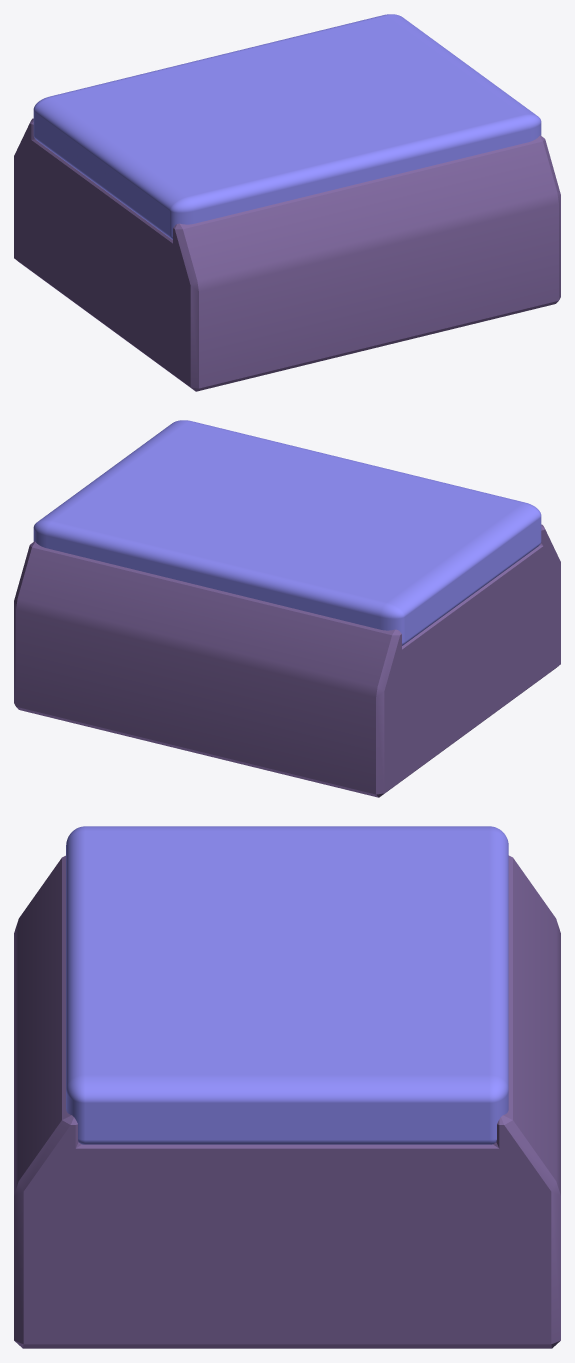
The picture shows the model from 3 angles, top to bottom: view 1: azimuth 30°, elevation 25°; view 2: azimuth 150°, elevation 25°; view 3: azimuth 270°, elevation 25°; orthographic projection. The views are drawn at different scales.
Visible parts, largest first — view 1: Cube.007, Plane.010; view 2: Cube.007, Plane.010; view 3: Plane.010, Cube.007.
Part boxes in pixels (x1,y1,x2,y2): Cube.007: (14,118,560,391); Plane.010: (33,14,541,239); Cube.007: (14,524,560,797); Plane.010: (33,420,541,645); Plane.010: (66,826,508,1144); Cube.007: (14,855,560,1348).
Size of the model in its own units: 155 by 70.78 by 133.
